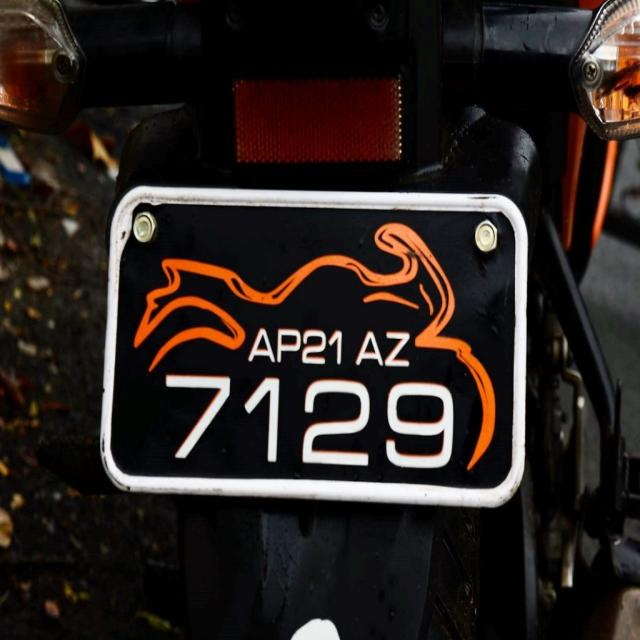license_plate: (99, 181, 529, 509)
